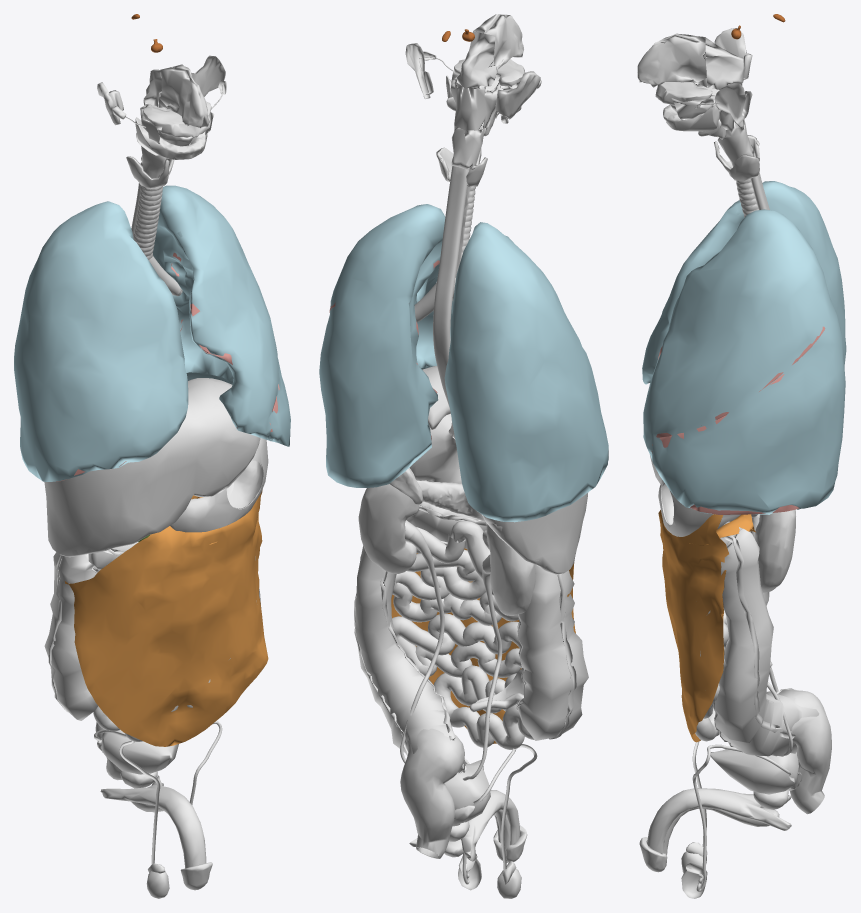
Rendered from body-visceral.glb.
3 views of the same model, side by side, from view 1: azimuth 30°, elevation 25°; view 2: azimuth 150°, elevation 25°; view 3: azimuth 270°, elevation 25° (orthographic). The views are drawn at different scales.
Visible parts, largest first — view 1: z02848, z02804, z02825, z02787, z02789, z02865, z02802, z02834, z02890, z02885, z02835, z02845 (+4 smaller); view 2: z02848, z02811, z02787, z02791, z02863, z02825, z02812, z02838, z02813, z02865, z02840, z02789 (+20 smaller); view 3: z02848, z02791, z02804, z02863, z02789, z02834, z02890, z02812, z02802, z02836, z02830, z02865 (+14 smaller).
Boxes of the visible parts, box(x1,y1,x2,y2) form: z02848: box(14, 185, 290, 481); z02804: box(64, 493, 268, 746); z02825: box(44, 378, 260, 557); z02787: box(44, 552, 97, 720); z02789: box(100, 775, 206, 868); z02865: box(170, 438, 268, 532); z02802: box(135, 101, 211, 159); z02834: box(158, 64, 209, 128); z02890: box(101, 730, 178, 774); z02885: box(133, 185, 162, 259); z02835: box(228, 460, 263, 509); z02845: box(191, 55, 225, 96); z02848: box(319, 204, 608, 522); z02811: box(392, 527, 534, 749); z02787: box(517, 564, 588, 740); z02791: box(354, 545, 465, 774); z02863: box(400, 728, 464, 858); z02825: box(422, 366, 587, 574); z02812: box(358, 484, 419, 573); z02838: box(433, 166, 469, 437); z02813: box(486, 524, 535, 615); z02865: box(409, 414, 461, 483); z02840: box(450, 70, 519, 130); z02789: box(409, 789, 519, 861); z02848: box(642, 181, 846, 514); z02791: box(714, 528, 819, 756); z02804: box(658, 510, 728, 742); z02863: box(790, 690, 831, 814); z02789: box(647, 788, 791, 853); z02834: box(637, 33, 707, 87); z02890: box(710, 747, 798, 794); z02812: box(755, 509, 795, 592); z02802: box(655, 82, 719, 131); z02836: box(705, 37, 744, 89); z02830: box(722, 535, 795, 738); z02865: box(658, 484, 740, 536).
Bounding box in the file's own units: 0.2724 × 0.9215 × 0.1997.
